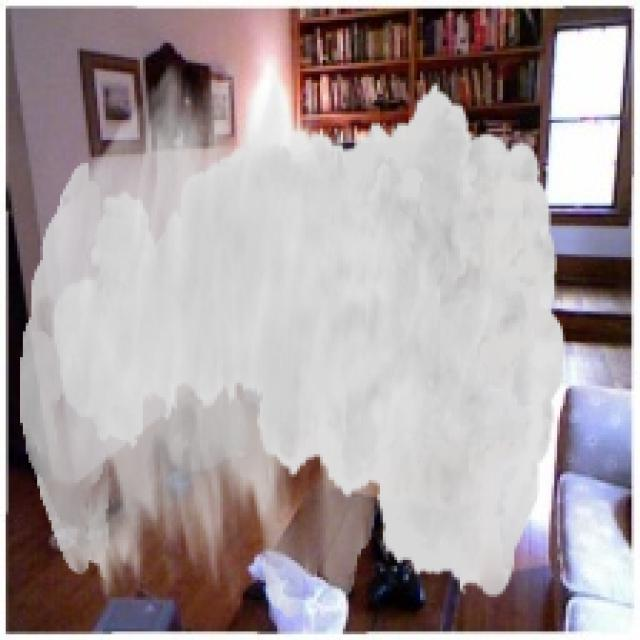smoke: (20, 60, 566, 617)
